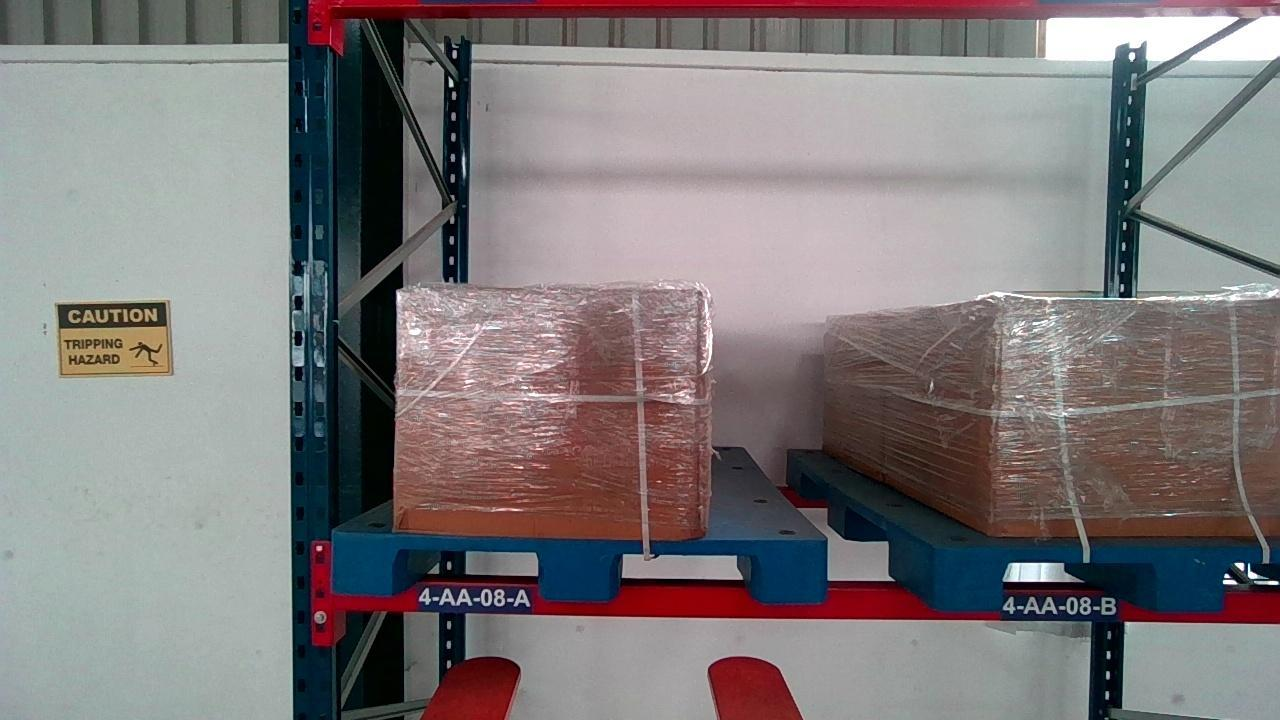h_rack: (330, 579, 1280, 621)
small_pallet: (327, 529, 824, 602), (935, 547, 1280, 611)
